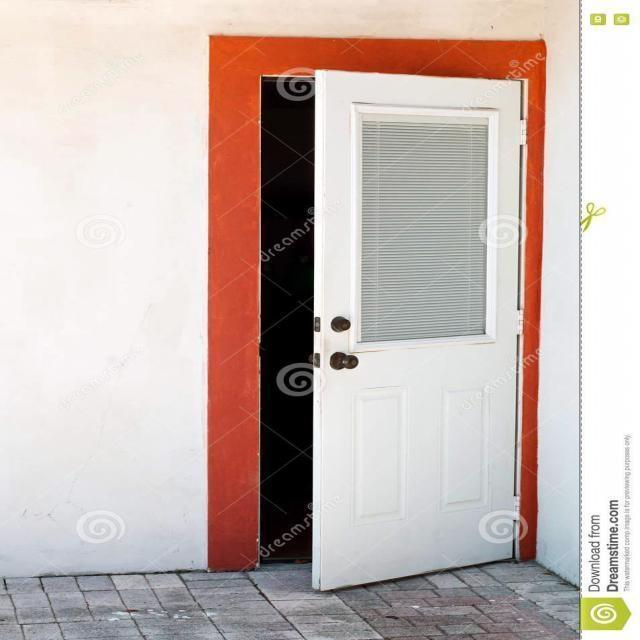door: (309, 68, 523, 592)
